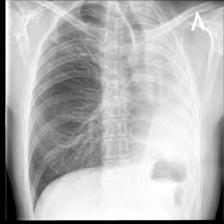tuberculosis: (22, 0, 210, 222)
